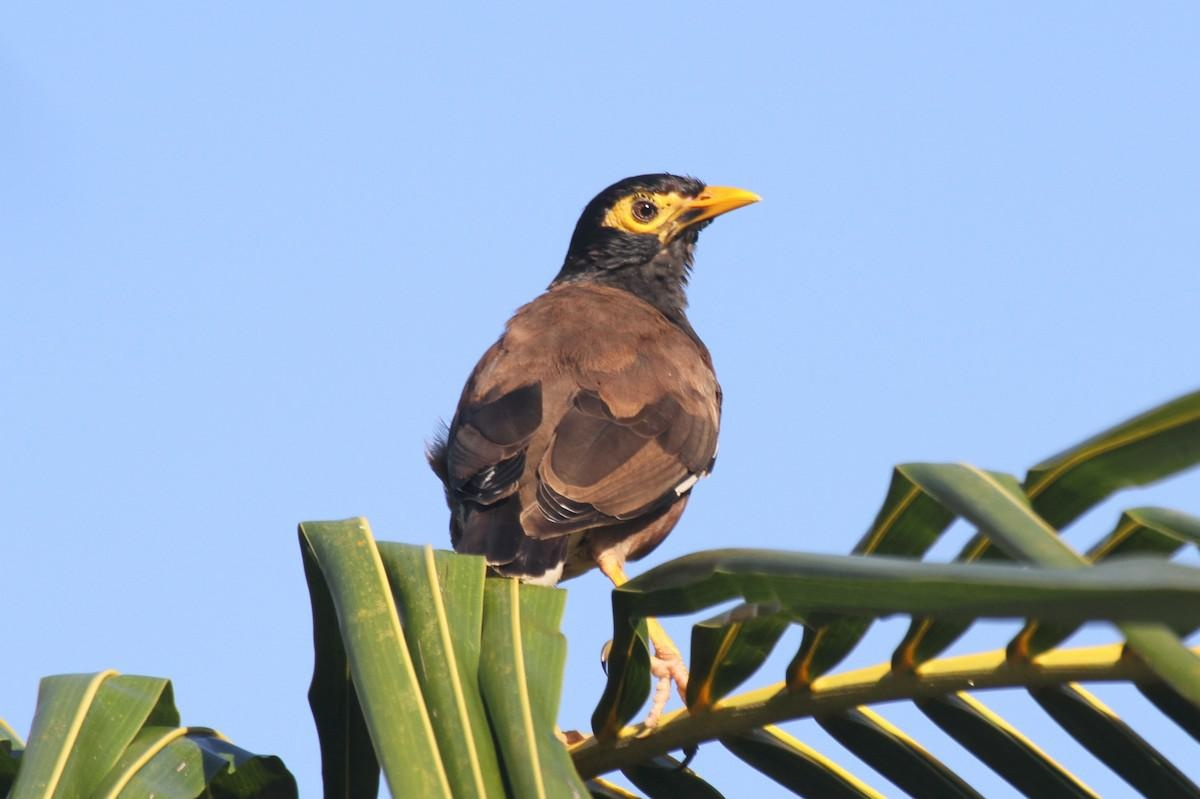myna: (446, 151, 766, 583)
